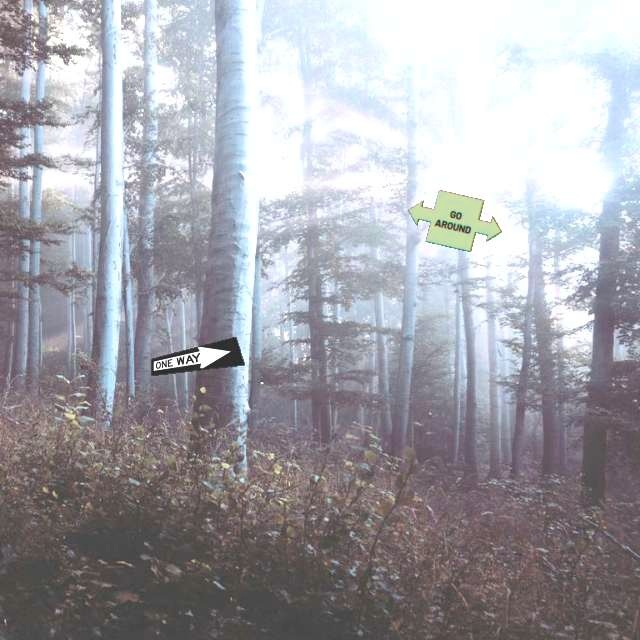GO_AROUND: (407, 189, 502, 252)
ONE_WAY_ right: (150, 336, 245, 376)
